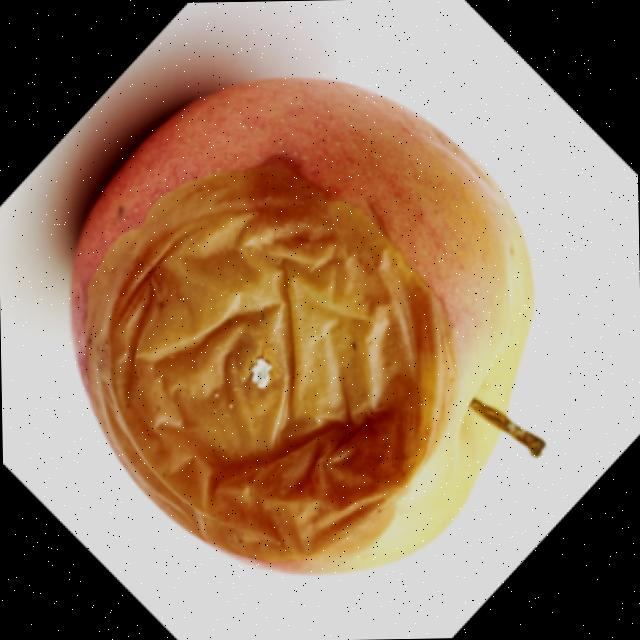Rotten: (56, 71, 547, 588)
